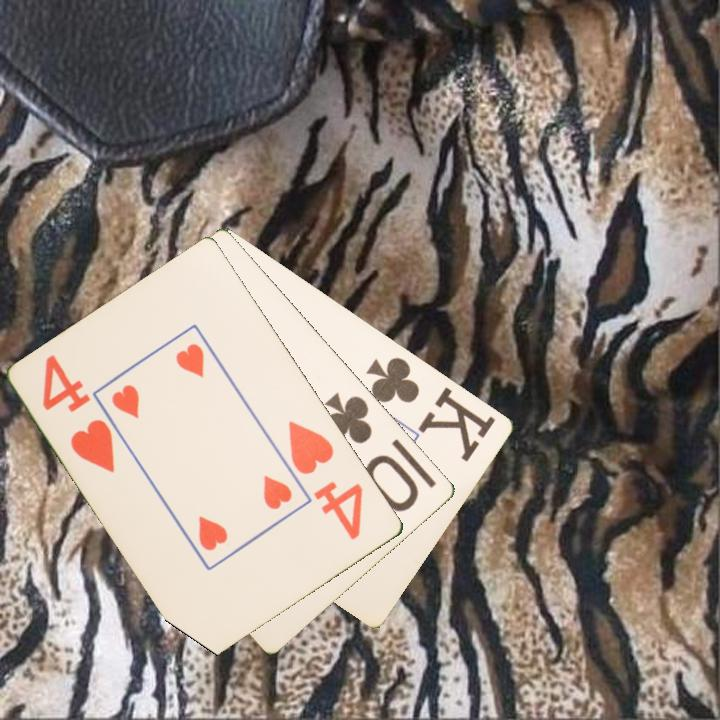10c: (321, 389, 423, 515)
4h: (285, 417, 367, 543), (39, 351, 119, 476)
Kc: (363, 353, 499, 464)
